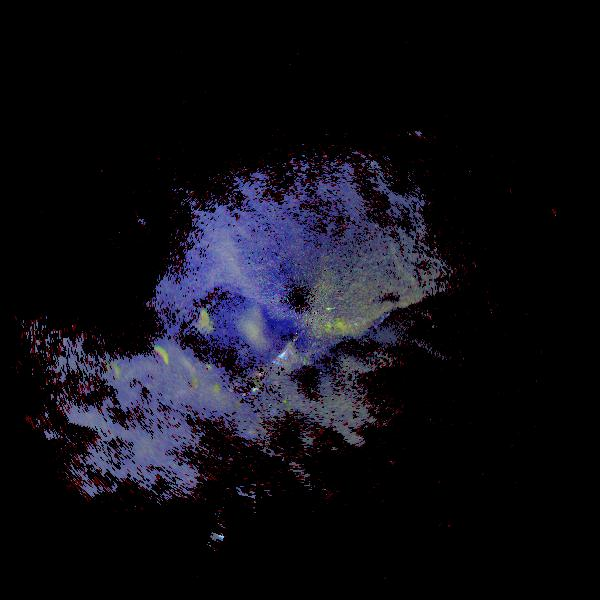roost: (136, 337, 181, 382), (182, 299, 224, 341)
